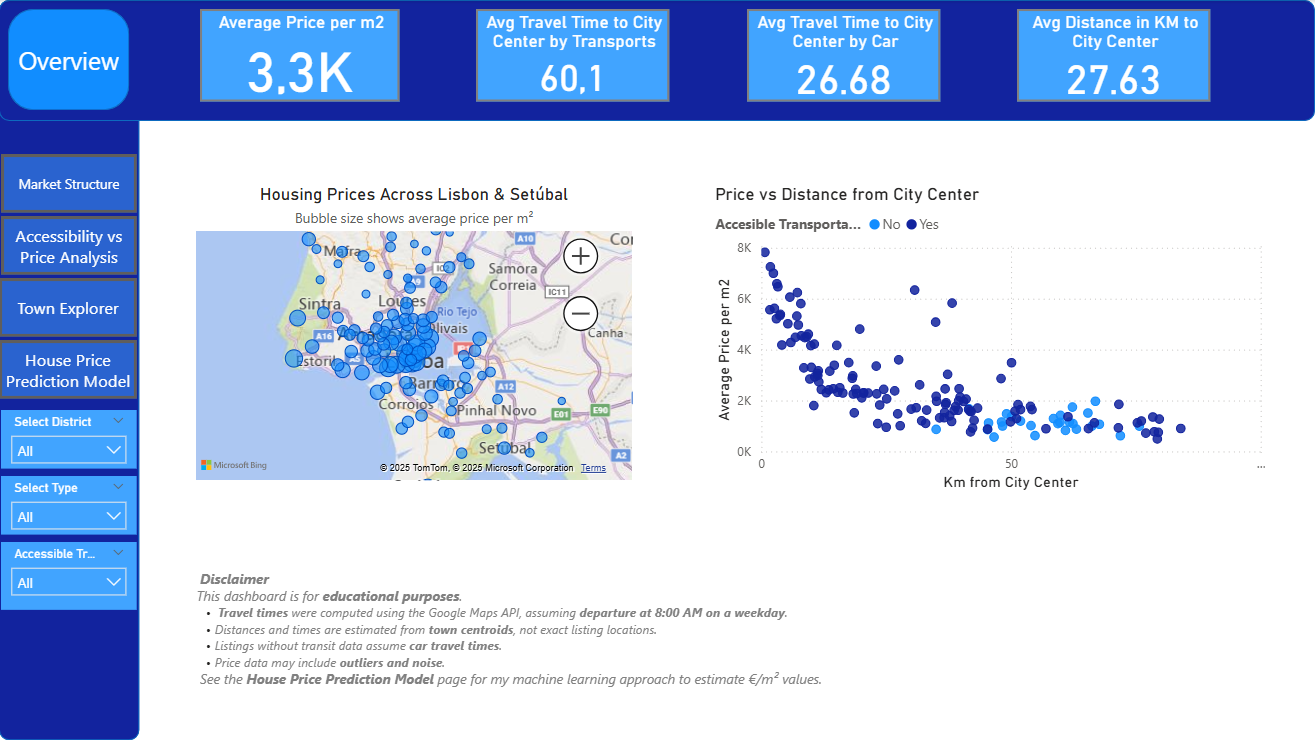

The page's visual inventory and layout, read from the dashboard file:
{"tool":"powerbi","page":{"name":"Overview","canvas":[1280,720],"ordinal":0},"visuals":[{"type":"shape","box":[0,0.3,136.6,720],"z":0},{"type":"shape","box":[0,0,1280,117.7],"z":1000},{"type":"map","title":"Housing Prices Across Lisbon & Setúbal ","fields":{"Size":["Avg(housing_with_citycenter_times_final1.price_per_m2)"],"Category":["housing_with_citycenter_times_final1.Town"],"Y":["Min(housing_with_citycenter_times_final1.lat)"],"X":["Min(housing_with_citycenter_times_final1.lon)"]},"box":[186.7,179,433.8,292.8],"z":2000},{"type":"scatterChart","title":"Price vs Distance from City Center","fields":{"Y":["Avg(housing_with_citycenter_times_final1.price_per_m2)"],"X":["housing_with_citycenter_times_final1.drive_km_final"],"Series":["housing_with_citycenter_times_final1.HasTransport"]},"box":[691.6,179,547.6,303.5],"z":3000},{"type":"shape","box":[8.9,8.9,117.9,98.4],"z":4000},{"type":"card","title":"Average Price per m2","fields":{"Values":["Avg(housing_with_citycenter_times_final1.price_per_m2)"]},"box":[195.5,8.8,193.6,90.5],"z":5000},{"type":"card","title":"Avg Travel Time to City Center by Transports","fields":{"Values":["Avg(housing_with_citycenter_times_final1.travel_min_final)"]},"box":[464.3,8.8,187.7,90.5],"z":6000},{"type":"card","title":"Avg Travel Time to City Center by Car","fields":{"Values":["Avg(housing_with_citycenter_times_final1.drive_min_final)"]},"box":[727.2,8.8,187.7,90.5],"z":7000},{"type":"slicer","fields":{"Values":["housing_with_citycenter_times_final1.District"]},"box":[1.9,398.8,132.3,57.4],"z":8000},{"type":"actionButton","title":"Product Insights","box":[1.9,149.8,132.3,57.4],"z":9000},{"type":"actionButton","title":"Product Insights","box":[1.9,210.1,132.3,57.4],"z":10000},{"type":"actionButton","title":"Product Insights","box":[0,270.4,134.2,57.4],"z":11000},{"type":"actionButton","title":"Product Insights","box":[0,330.7,134.2,57.4],"z":12000},{"type":"card","title":"Avg Distance in KM to City Center","fields":{"Values":["Avg(housing_with_citycenter_times_final1.drive_km_final)"]},"box":[990.2,8.8,187.7,90.5],"z":13000},{"type":"slicer","fields":{"Values":["housing_with_citycenter_times_final1.Type"]},"box":[1.9,463,132.3,57.4],"z":14000},{"type":"slicer","fields":{"Values":["housing_with_citycenter_times_final1.HasTransport"]},"box":[1.9,527.2,132.3,66.1],"z":15000},{"type":"textbox","box":[186.7,548.6,1052.4,171.2],"z":15001}]}

Visuals, with their boxes in screenshot pixels (x1, y1, x2, y2), scaled from the page's 1280x720 canvas onto the 1315x740 screenshot:
shape: box(0, 0, 140, 739)
shape: box(0, 0, 1314, 121)
"Housing Prices Across Lisbon & Setúbal " map: box(192, 184, 637, 485)
"Price vs Distance from City Center" scatterChart: box(711, 184, 1273, 496)
shape: box(9, 9, 130, 110)
"Average Price per m2" card: box(201, 9, 400, 102)
"Avg Travel Time to City Center by Transports" card: box(477, 9, 670, 102)
"Avg Travel Time to City Center by Car" card: box(747, 9, 940, 102)
slicer - housing_with_citycenter_times_final1.District: box(2, 410, 138, 469)
"Product Insights" actionButton: box(2, 154, 138, 213)
"Product Insights" actionButton: box(2, 216, 138, 275)
"Product Insights" actionButton: box(0, 278, 138, 337)
"Product Insights" actionButton: box(0, 340, 138, 399)
"Avg Distance in KM to City Center" card: box(1017, 9, 1210, 102)
slicer - housing_with_citycenter_times_final1.Type: box(2, 476, 138, 535)
slicer - housing_with_citycenter_times_final1.HasTransport: box(2, 542, 138, 610)
textbox: box(192, 564, 1273, 739)
